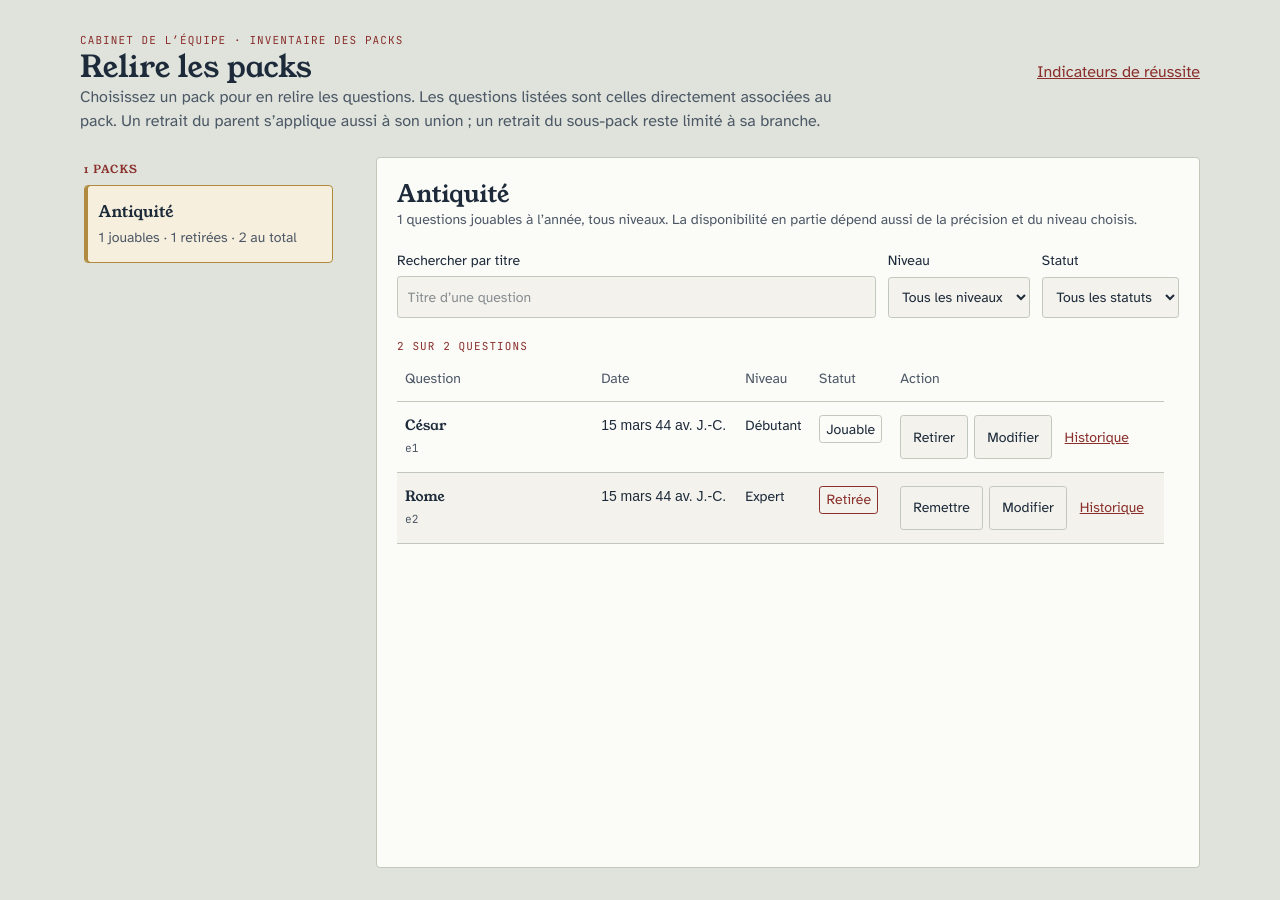
Test: remet une question et gère une coupure réseau sans changer l'état local
Click the button "Remettre". click: (942, 508)
box: [900,486,983,530]
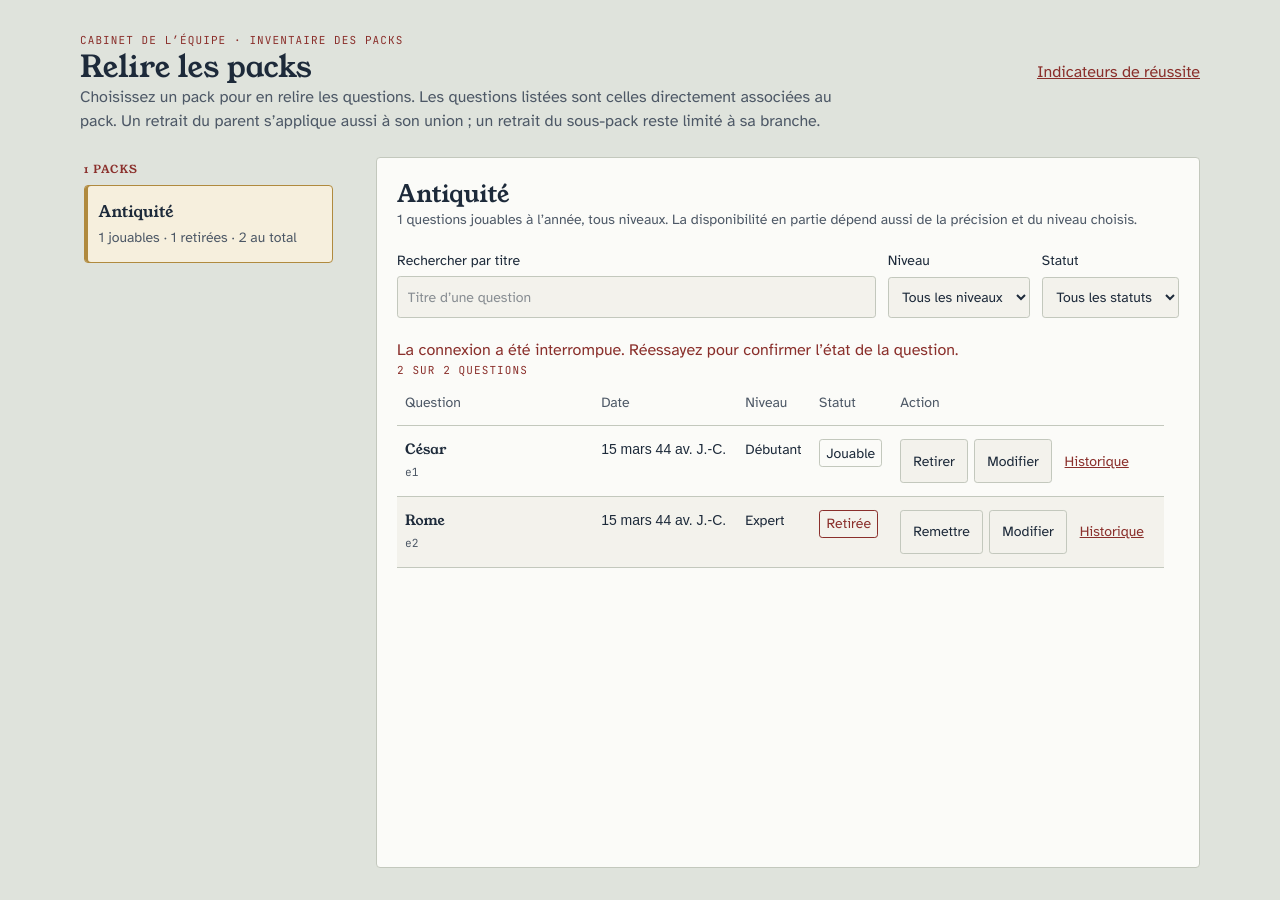
Expected: the text "Retirée" is shown, [819,510,878,538]
Result: the message shows "connexion" at [397,340,958,360]
Click the button "Remettre". click: (942, 532)
box: [900,510,983,554]
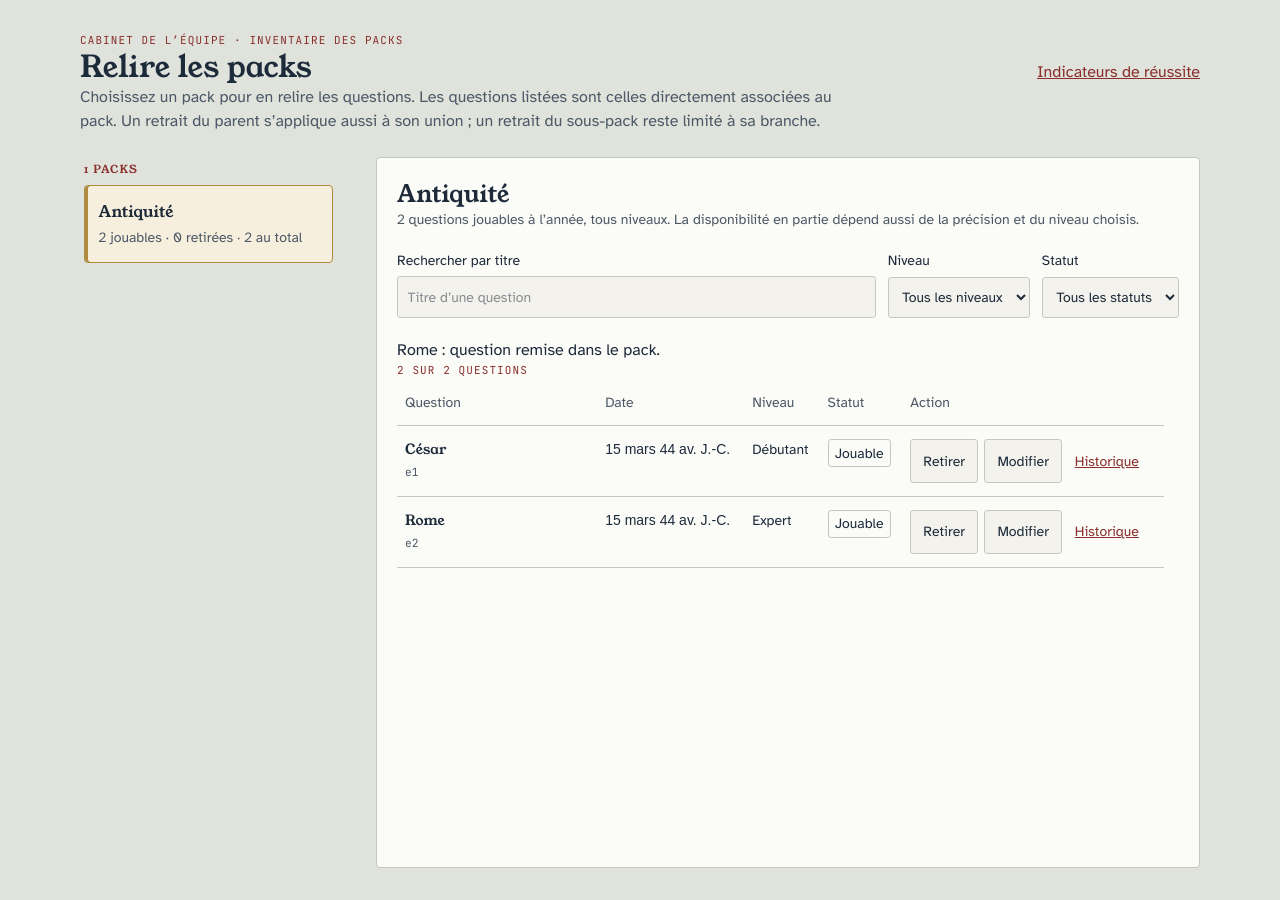
Result: the text "2 jouables · 0 retirées · 2 au total" is shown at [99,228,318,248]
